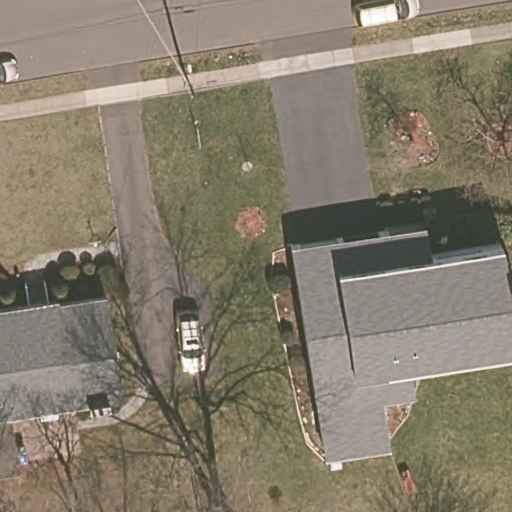DT: (180, 61, 198, 99)
